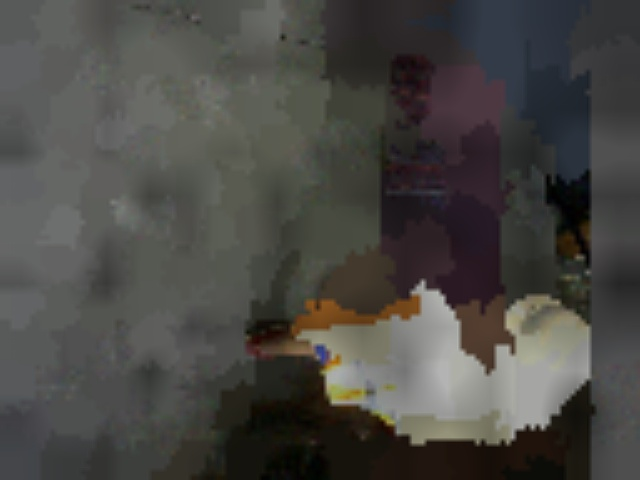two: (537, 369, 576, 400)
